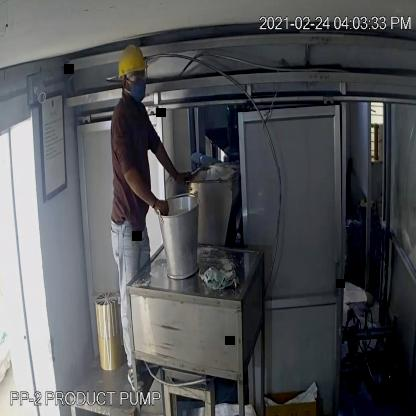helmet: (114, 40, 150, 85)
